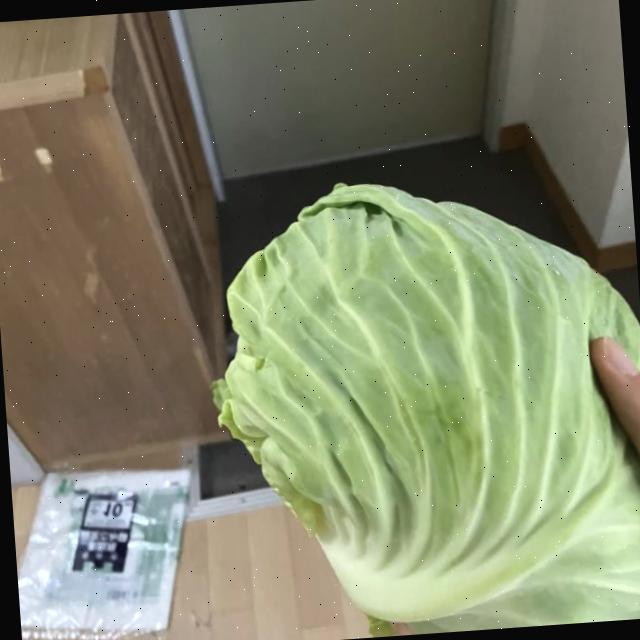cabbage: (192, 157, 640, 640)
